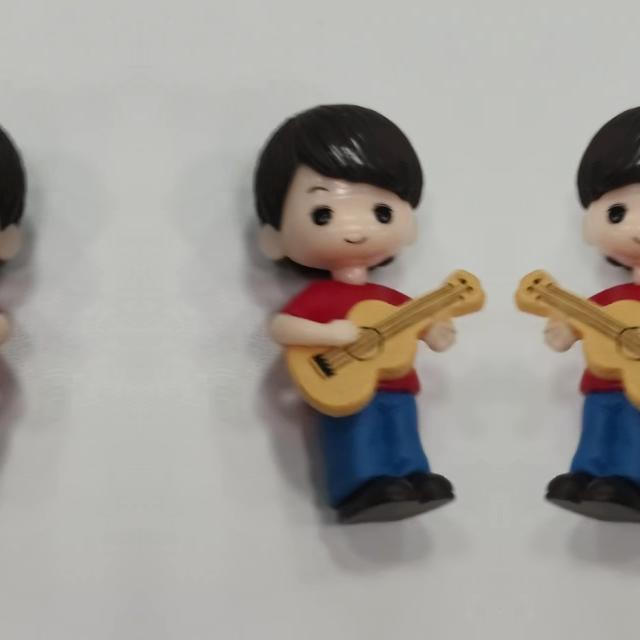man cloth: (264, 276, 453, 402), (546, 275, 640, 402), (0, 275, 15, 402)
man head: (238, 96, 430, 274), (570, 96, 640, 273), (0, 96, 42, 273)
trousers: (312, 390, 468, 526), (531, 390, 640, 526)
